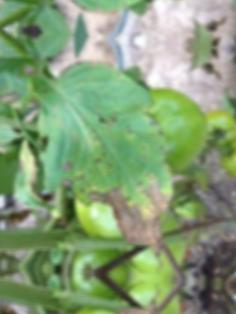Tomato leaf bacterial spot: (24, 56, 180, 270)
